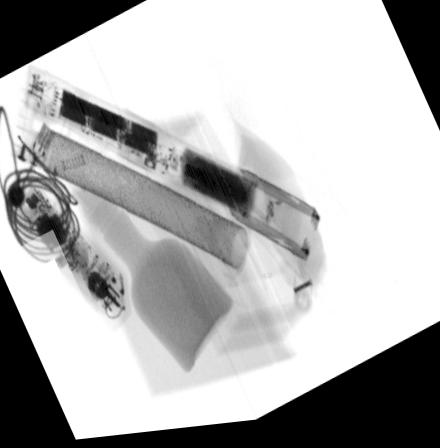Baton: (19, 64, 321, 271)
